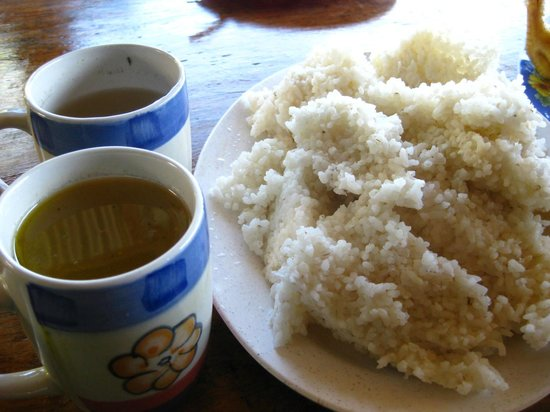plain rice: (252, 56, 545, 364)
